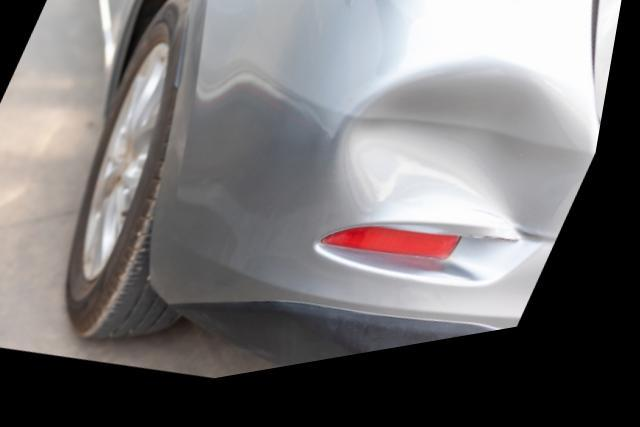dent: (350, 84, 599, 257)
